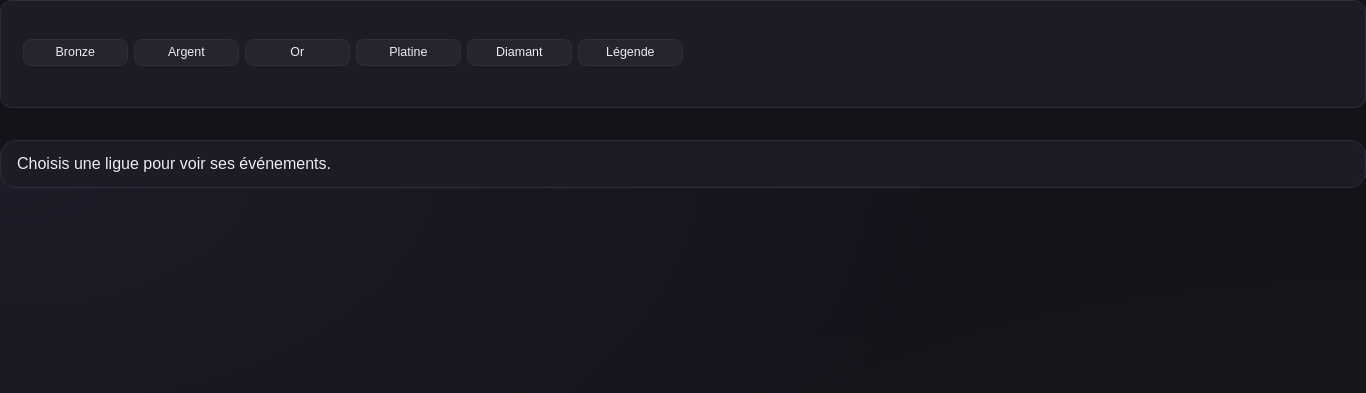
Test: EventsReferenceTable › Bloc79/F: shows the event's own description right away, tile still closed
Click the button "Bronze". click: (75, 52)
box: [23,39,128,66]
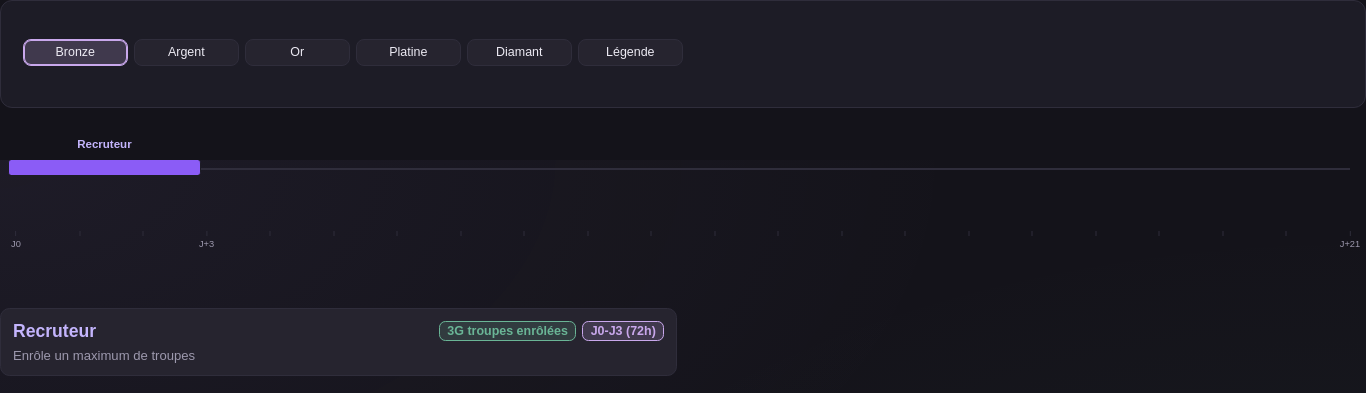
Expected: the text "Enrôle un maximum de troupes" is shown, [13,348,195,363]
